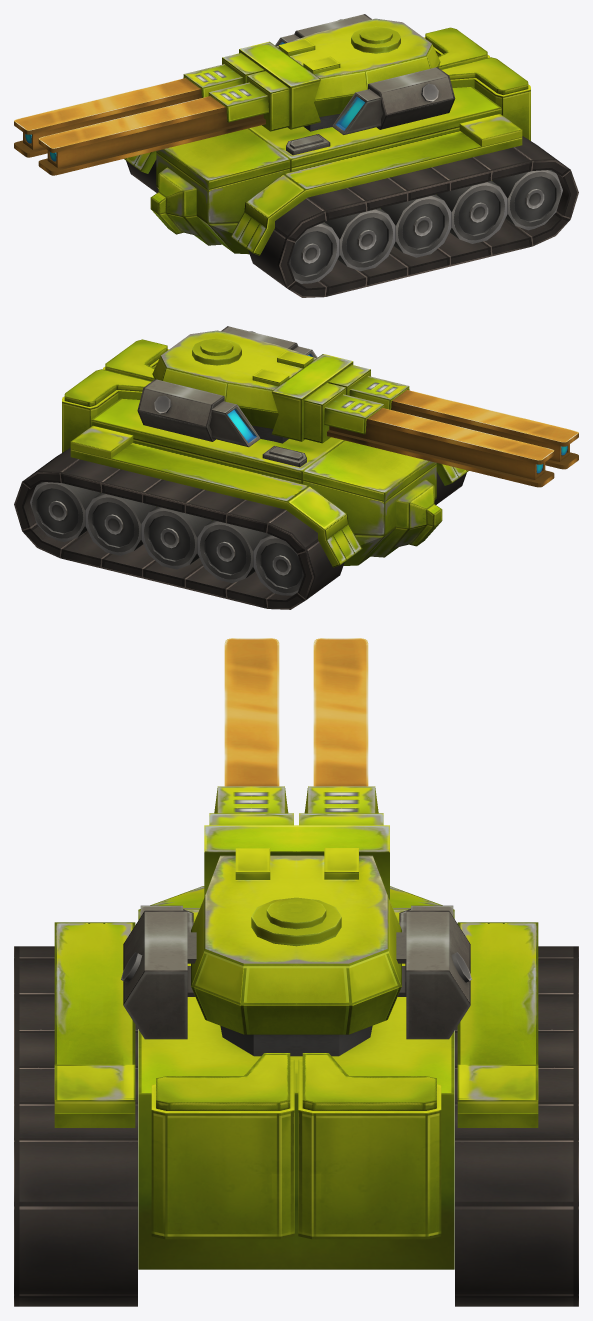
Rendered from tank2_level3.FBX.
3 renders of one model, top to bottom at view 1: azimuth 30°, elevation 25°; view 2: azimuth 150°, elevation 25°; view 3: azimuth 270°, elevation 25°, orthographic. The views are drawn at different scales.
Visible parts, largest first — view 1: tank2_level3, tank2_level3_weapon, tank2_level3_weapon2; view 2: tank2_level3, tank2_level3_weapon, tank2_level3_weapon2; view 3: tank2_level3, tank2_level3_weapon, tank2_level3_weapon2.
Part boxes in pixels (<box>): tank2_level3: <box>124,27,578,297</box>; tank2_level3_weapon: <box>222,14,455,134</box>; tank2_level3_weapon2: <box>14,64,268,175</box>; tank2_level3: <box>14,339,468,609</box>; tank2_level3_weapon: <box>137,326,370,447</box>; tank2_level3_weapon2: <box>324,376,578,487</box>; tank2_level3: <box>14,886,578,1306</box>; tank2_level3_weapon: <box>121,813,471,1056</box>; tank2_level3_weapon2: <box>214,638,378,813</box>.
Size of the model in its own units: 65.65 by 23.39 by 37.98.
